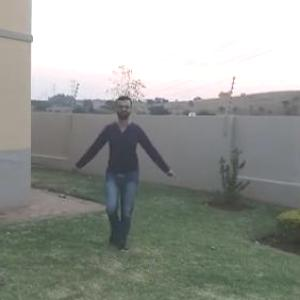land: (78, 104, 167, 231)
